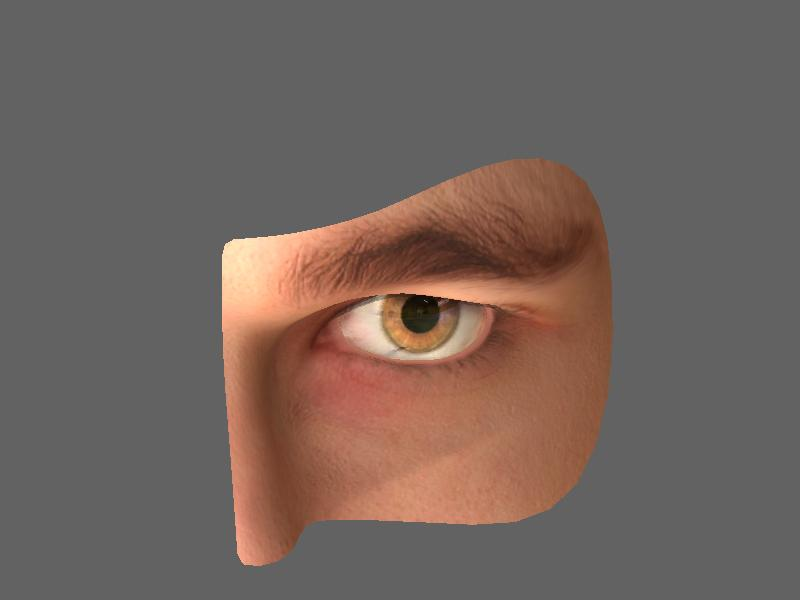iris: (376, 293, 465, 350)
